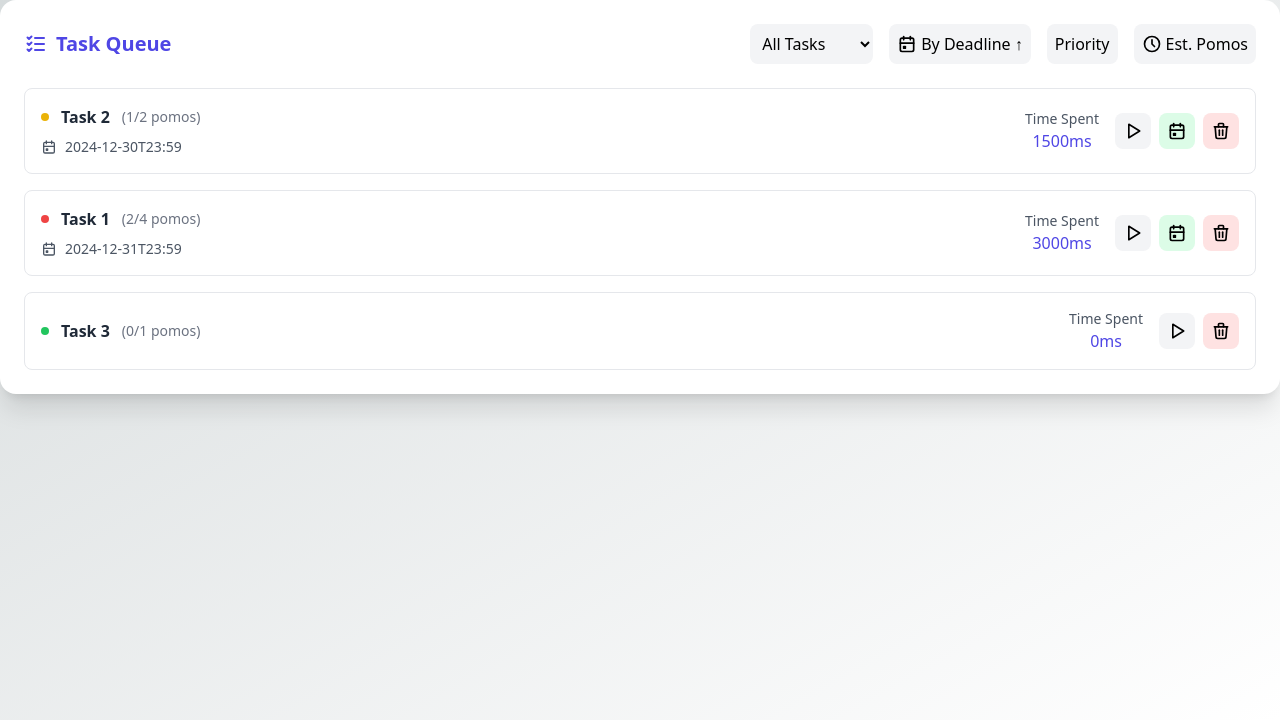
Test case: TaskList Component › Task Filtering › filters tasks by status
The width and height of the screenshot is (1280, 720).
Select "Todo" in the dropdown named "Filter tasks by status" at {"x": 812, "y": 44}, box [750, 24, 873, 64]
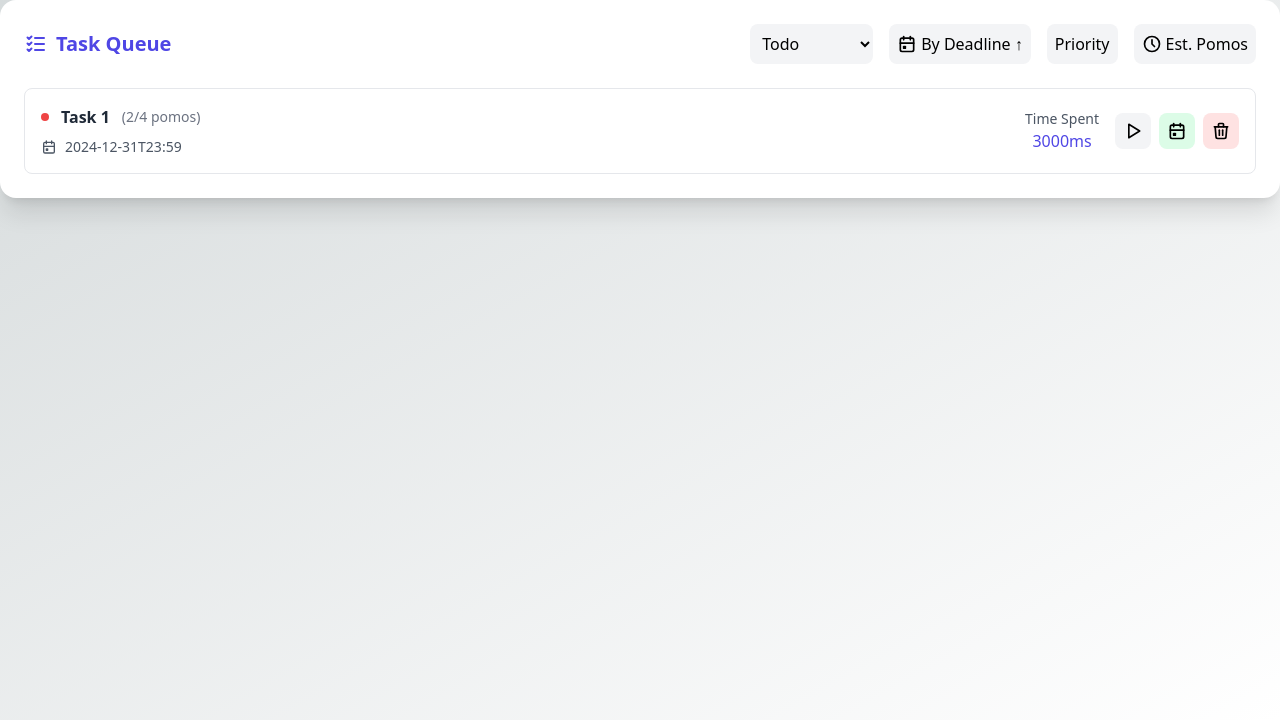
Expected: the heading "Task 1" is shown, [61, 105, 110, 129]
Select "In-progress" in the dropdown named "Filter tasks by status" at {"x": 812, "y": 44}, box [750, 24, 873, 64]
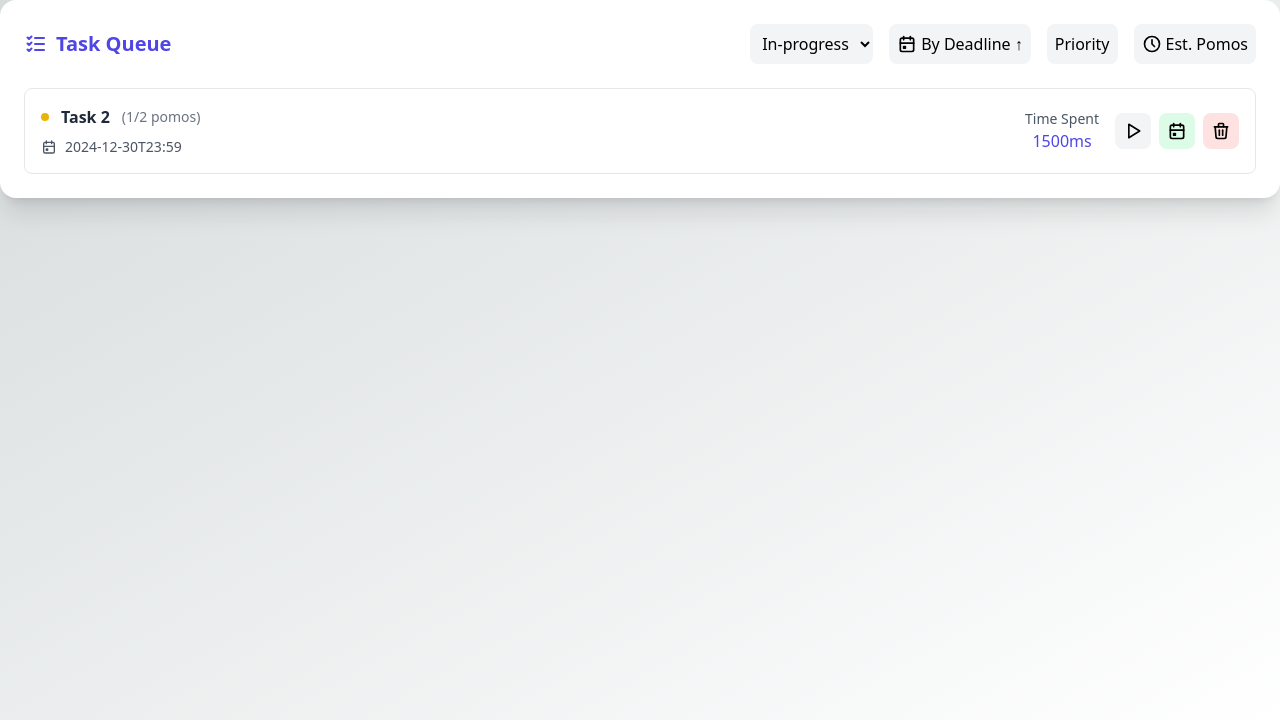
Result: the heading "Task 2" is shown at [61, 105, 110, 129]
Select "Completed" in the dropdown named "Filter tasks by status" at {"x": 812, "y": 44}, box [750, 24, 873, 64]
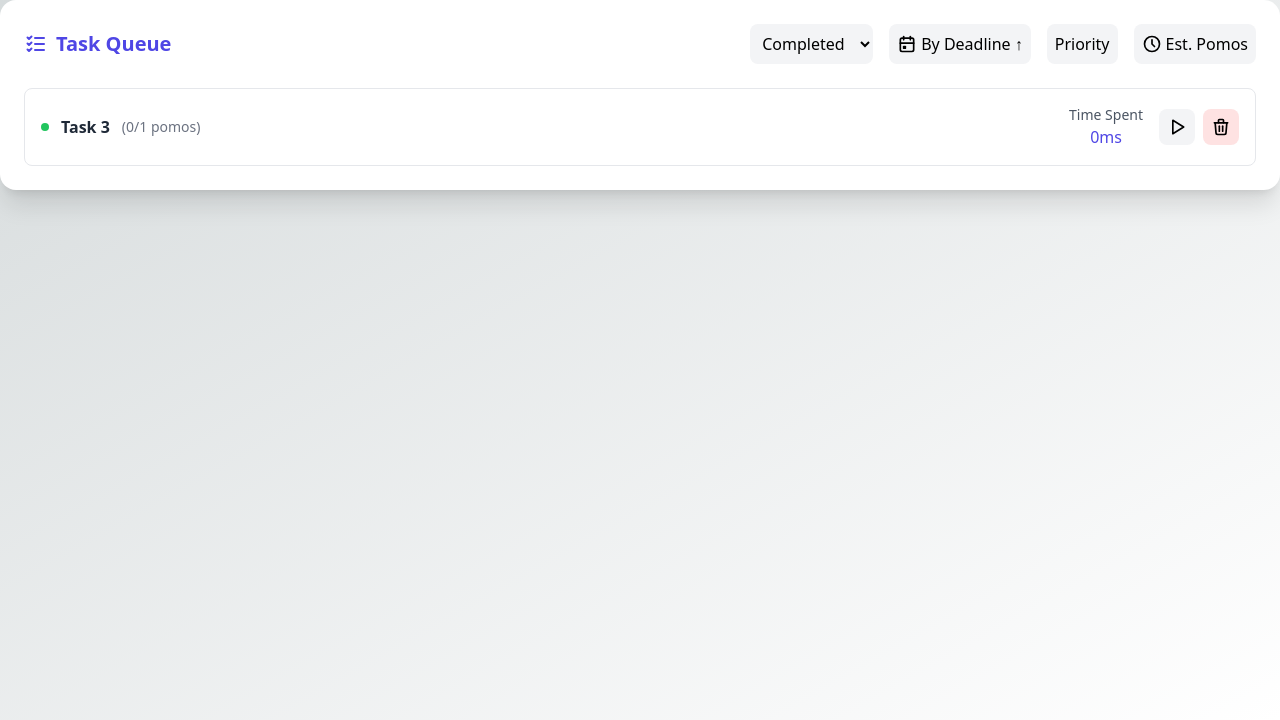
Result: the heading "Task 3" is shown at [61, 115, 110, 139]
